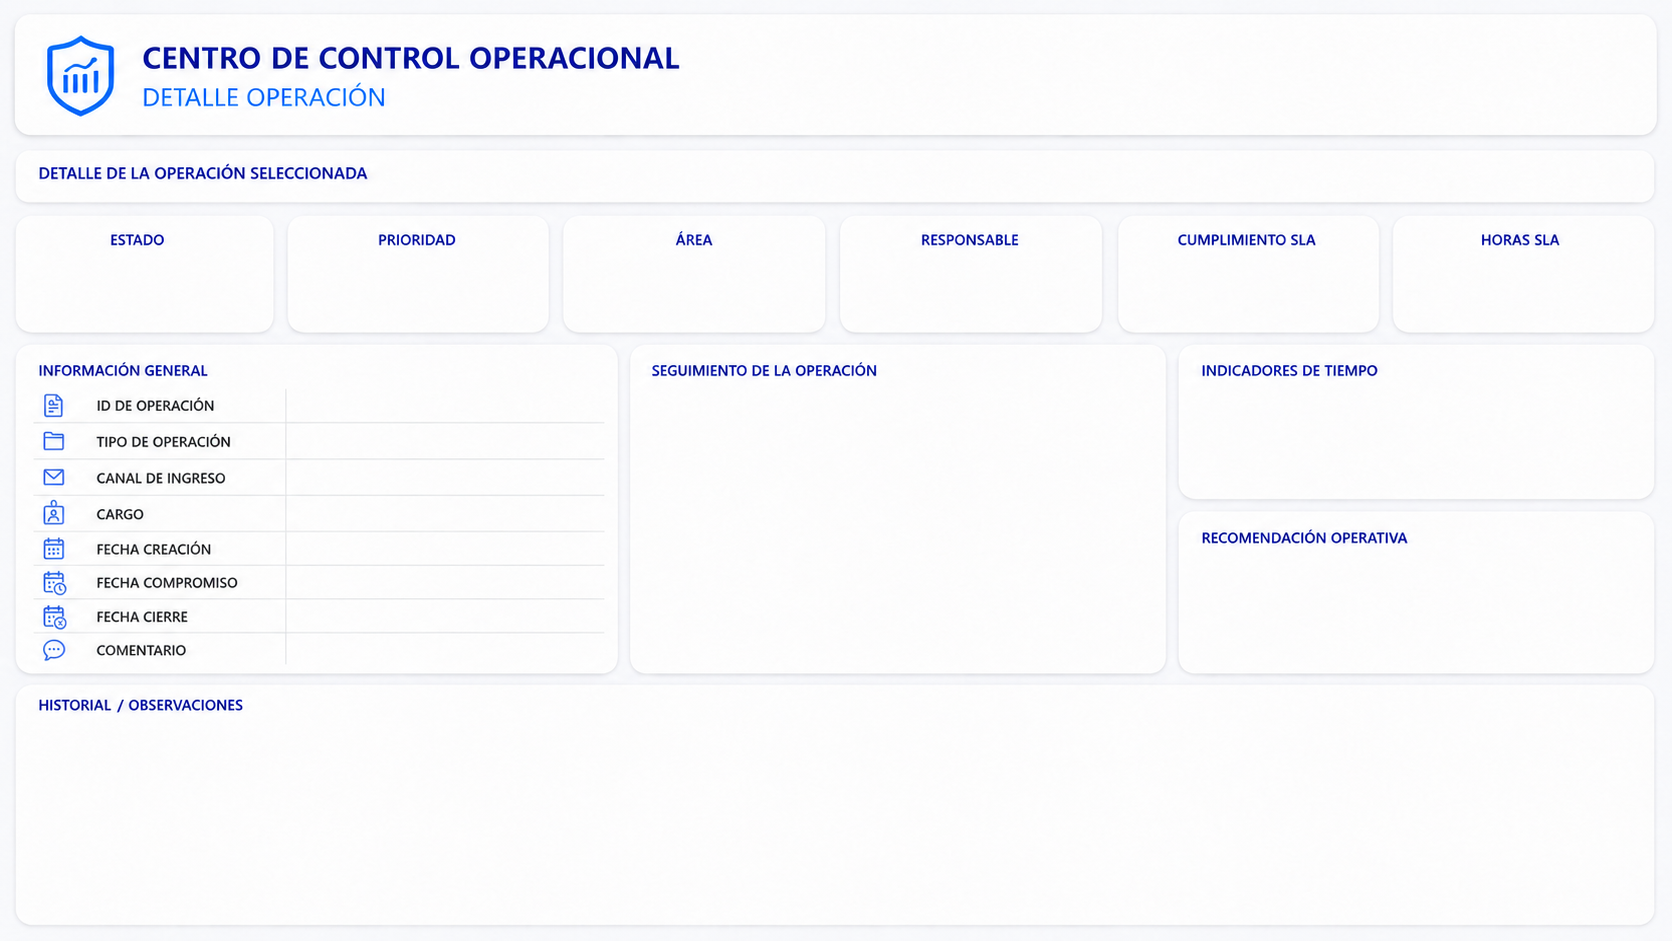

Layout of this report page (visuals, bound fields, positions):
{"tool":"powerbi","page":{"name":"DETALLE OPERACION","canvas":[1672,941],"ordinal":3},"visuals":[{"type":"pageNavigator","box":[824,68,650,48],"z":0},{"type":"actionButton","box":[1487,68,40,48],"z":1000},{"type":"cardVisual","title":"ACTUALIZADO","fields":{"Data":["Consulta.Texto Actualizacion"]},"box":[1536,68,110,48],"z":2000},{"type":"shape","box":[1535,72,12,12],"z":3000},{"type":"actionButton","box":[0,0,100,40],"z":4000},{"type":"cardVisual","fields":{"Data":["Consulta.Operacion Seleccionada"]},"box":[1410,150,235.5,48.2],"z":5000},{"type":"cardVisual","fields":{"Data":["Consulta.Estado Seleccionado"]},"box":[20,211.4,258.6,117.1],"z":6000},{"type":"cardVisual","fields":{"Data":["Consulta.Prioridad Seleccionada"]},"box":[288.6,211.4,264.3,117.1],"z":7000},{"type":"textSlicer","fields":{"Values":["Fact_Operaciones.OperacionID"]},"box":[1181.4,150,210,42.9],"z":8000},{"type":"cardVisual","fields":{"Data":["Consulta.Area Seleccionada"]},"box":[564.3,211.4,261.4,117.1],"z":9000},{"type":"cardVisual","fields":{"Data":["Consulta.Responsable Seleccionado"]},"box":[835.7,211.4,271.4,117.1],"z":10000},{"type":"cardVisual","fields":{"Data":["Consulta.Cumplimiento SLA Seleccionado"]},"box":[1120,211.4,261.4,117.1],"z":11000},{"type":"cardVisual","fields":{"Data":["Consulta.Horas SLA Seleccionada"]},"box":[1391.4,211.4,262.9,117.1],"z":12000},{"type":"cardVisual","fields":{"Data":["Consulta.ID Operacion Seleccionada"]},"box":[309.2,389.2,100,28.5],"z":13000},{"type":"cardVisual","fields":{"Data":["Consulta.Tipo Operacion Seleccionada"]},"box":[309.2,424.6,224.6,28.5],"z":14000},{"type":"cardVisual","fields":{"Data":["Consulta.Canal Ingreso Seleccionado"]},"box":[309.2,461.5,243.8,28.5],"z":15000},{"type":"cardVisual","fields":{"Data":["Consulta.Cargo Seleccionado"]},"box":[308.6,497.1,294.3,28.6],"z":16000},{"type":"cardVisual","fields":{"Data":["Consulta.Fecha Creacion Seleccionada"]},"box":[309.2,532.3,243.8,28.5],"z":17000},{"type":"cardVisual","fields":{"Data":["Consulta.Fecha Compromiso Seleccionada"]},"box":[309.2,566.2,243.8,28.5],"z":18000},{"type":"cardVisual","fields":{"Data":["Consulta.Fecha Cierre Seleccionada"]},"box":[309.2,600,255.4,28.5],"z":19000},{"type":"cardVisual","fields":{"Data":["Consulta.Comentario Seleccionado"]},"box":[309.2,633.8,293.8,28.5],"z":20000},{"type":"gauge","title":"CONSUMO DEL SLA","fields":{"Y":["Consulta.Horas Transcurridas Valor"],"MaxValue":["Consulta.Horas SLA Valor"]},"box":[648.8,386.2,500,160],"z":21000},{"type":"cardVisual","title":"TRANSCURRIDAS","fields":{"Data":["Consulta.Horas Transcurridas Seleccionadas"]},"box":[648.8,582.5,142.5,80],"z":22000},{"type":"cardVisual","title":"RESTANTES","fields":{"Data":["Consulta.Horas Restantes Seleccionadas"]},"box":[823.8,582.5,128.8,80],"z":22001},{"type":"cardVisual","title":"SITUACION","fields":{"Data":["Consulta.Situacion Plazo Seleccionada"]},"box":[952.5,580,196.2,81.2],"z":22002},{"type":"cardVisual","fields":{"Data":["Consulta.Porcentaje Consumo SLA"]},"box":[836.2,515,138.8,65],"z":22003},{"type":"clusteredBarChart","fields":{"Category":["Indicadores_Tiempo.Indicador"],"Y":["Consulta.Valor Indicador Tiempo"]},"box":[1190,376.2,456.2,113.8],"z":22004},{"type":"cardVisual","fields":{"Data":["Consulta.Recomendacion Titulo"]},"box":[1317.1,542.9,328.6,52.9],"z":22005},{"type":"image","box":[1181.2,540,135,127.5],"z":22007},{"type":"textbox","box":[1316.2,580,330,68.8],"z":22008},{"type":"tableEx","fields":{"Values":["Fact_Operaciones.OperacionID","Fact_Operaciones.FechaCreacion","Fact_Operaciones.FechaCompromiso","Consulta.Fecha Cierre Seleccionada","Consulta.Estado Seleccionado","Fact_Operaciones.Comentario"]},"box":[30,718.8,1615,192.5],"z":22009}]}

Visuals, with their boxes in screenshot pixels (x1, y1, x2, y2), scaled from the page's 1672x941 canvas onto the 1672x941 screenshot:
pageNavigator: 824/68/1474/116
actionButton: 1487/68/1527/116
"ACTUALIZADO" cardVisual: 1536/68/1646/116
shape: 1535/72/1547/84
actionButton: 0/0/100/40
cardVisual - Consulta.Operacion Seleccionada: 1410/150/1646/198
cardVisual - Consulta.Estado Seleccionado: 20/211/279/328
cardVisual - Consulta.Prioridad Seleccionada: 289/211/553/328
textSlicer - Fact_Operaciones.OperacionID: 1181/150/1391/193
cardVisual - Consulta.Area Seleccionada: 564/211/826/328
cardVisual - Consulta.Responsable Seleccionado: 836/211/1107/328
cardVisual - Consulta.Cumplimiento SLA Seleccionado: 1120/211/1381/328
cardVisual - Consulta.Horas SLA Seleccionada: 1391/211/1654/328
cardVisual - Consulta.ID Operacion Seleccionada: 309/389/409/418
cardVisual - Consulta.Tipo Operacion Seleccionada: 309/425/534/453
cardVisual - Consulta.Canal Ingreso Seleccionado: 309/462/553/490
cardVisual - Consulta.Cargo Seleccionado: 309/497/603/526
cardVisual - Consulta.Fecha Creacion Seleccionada: 309/532/553/561
cardVisual - Consulta.Fecha Compromiso Seleccionada: 309/566/553/595
cardVisual - Consulta.Fecha Cierre Seleccionada: 309/600/565/628
cardVisual - Consulta.Comentario Seleccionado: 309/634/603/662
"CONSUMO DEL SLA" gauge: 649/386/1149/546
"TRANSCURRIDAS" cardVisual: 649/582/791/662
"RESTANTES" cardVisual: 824/582/953/662
"SITUACION" cardVisual: 952/580/1149/661
cardVisual - Consulta.Porcentaje Consumo SLA: 836/515/975/580
clusteredBarChart - Indicadores_Tiempo.Indicador x Consulta.Valor Indicador Tiempo: 1190/376/1646/490
cardVisual - Consulta.Recomendacion Titulo: 1317/543/1646/596
image: 1181/540/1316/668
textbox: 1316/580/1646/649
tableEx - Fact_Operaciones.OperacionID x Fact_Operaciones.FechaCreacion: 30/719/1645/911
